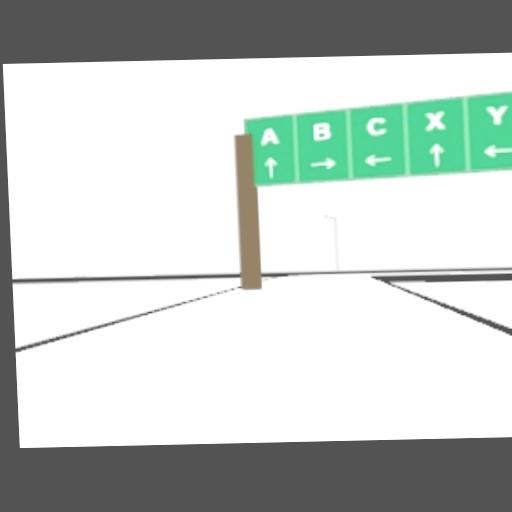A: (258, 127, 279, 145)
B: (312, 121, 331, 141)
C: (365, 116, 387, 136)
Left: (480, 144, 512, 158), (361, 153, 392, 166)
Right: (308, 157, 337, 169)
Straight: (428, 143, 443, 166), (263, 156, 276, 177)
X: (423, 109, 447, 130)
Y: (486, 104, 508, 124)
